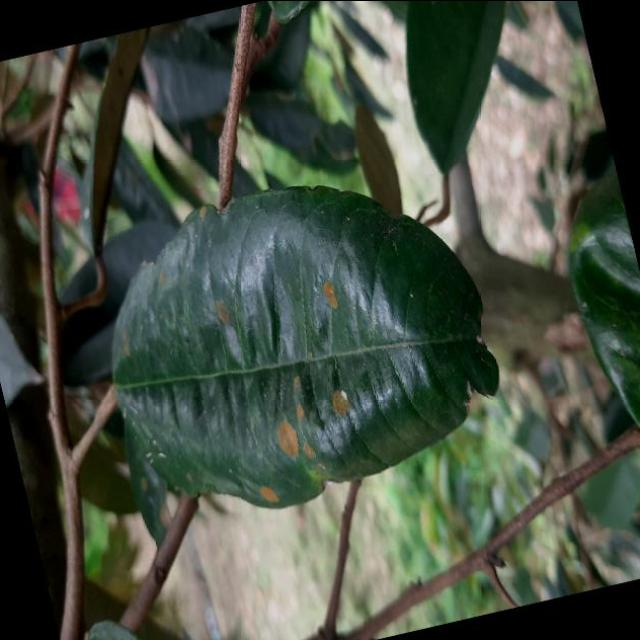Algal Leaf Spot: (70, 146, 520, 547)
